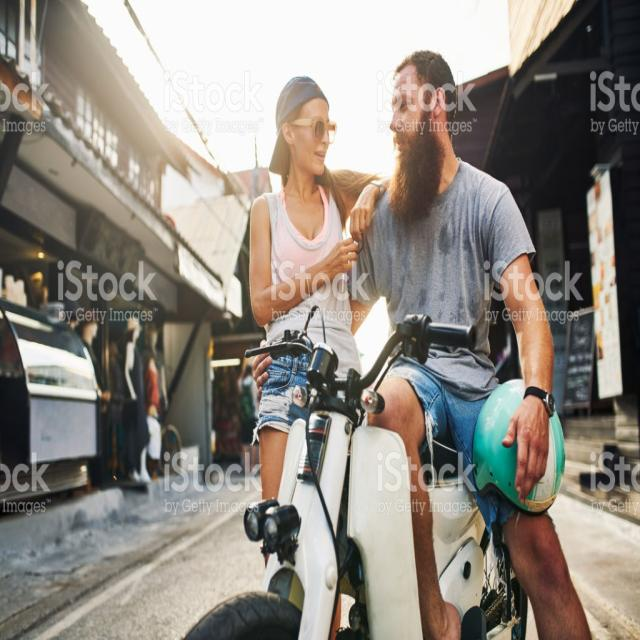body: (248, 46, 600, 639), (245, 68, 392, 639), (79, 309, 179, 497), (239, 363, 259, 474)
